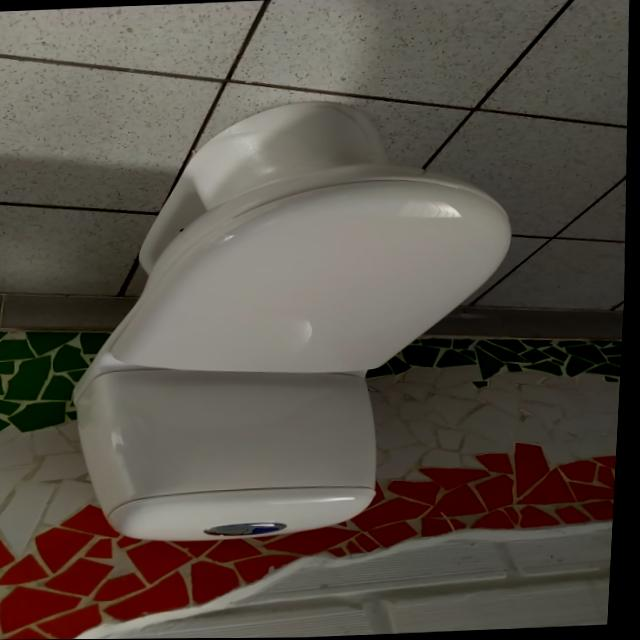toilet: (59, 93, 530, 548)
